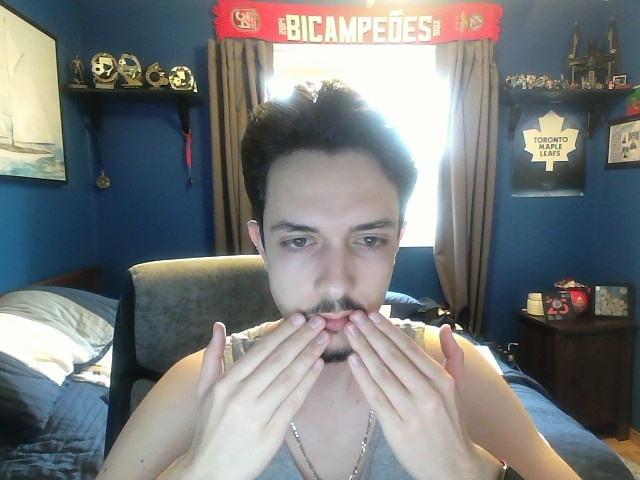ThankYou: (192, 309, 466, 480)
